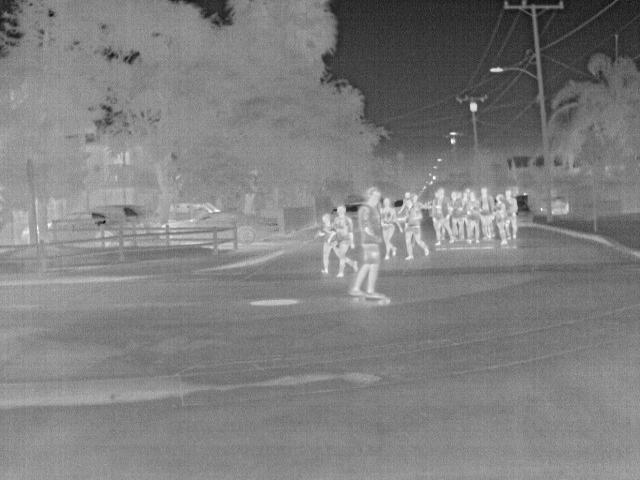car: (237, 212, 280, 244), (173, 201, 222, 222), (93, 206, 143, 225), (194, 210, 238, 226), (515, 198, 535, 225)
person: (350, 188, 389, 297), (397, 200, 430, 258), (335, 204, 357, 278), (379, 198, 401, 255), (431, 189, 452, 245), (493, 192, 513, 242), (319, 214, 336, 271), (481, 186, 496, 243), (505, 192, 523, 236), (465, 190, 479, 241)
